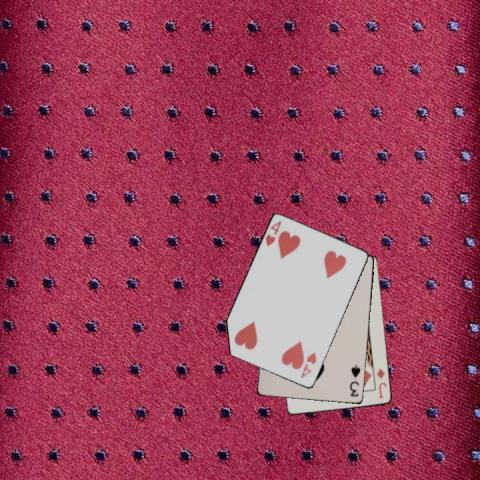3s: (347, 363, 362, 398)
4h: (297, 349, 318, 380), (262, 218, 283, 248)
Jd: (374, 366, 388, 400)
